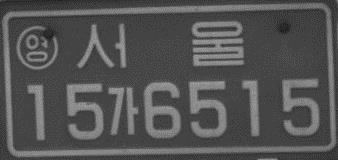1: (23, 81, 49, 142), (239, 78, 264, 138)
5: (280, 75, 322, 138), (187, 79, 229, 140), (64, 81, 105, 141)
6: (143, 79, 181, 142)
가: (106, 85, 140, 137)
서울_D: (73, 19, 245, 70)
영: (16, 24, 60, 70)
